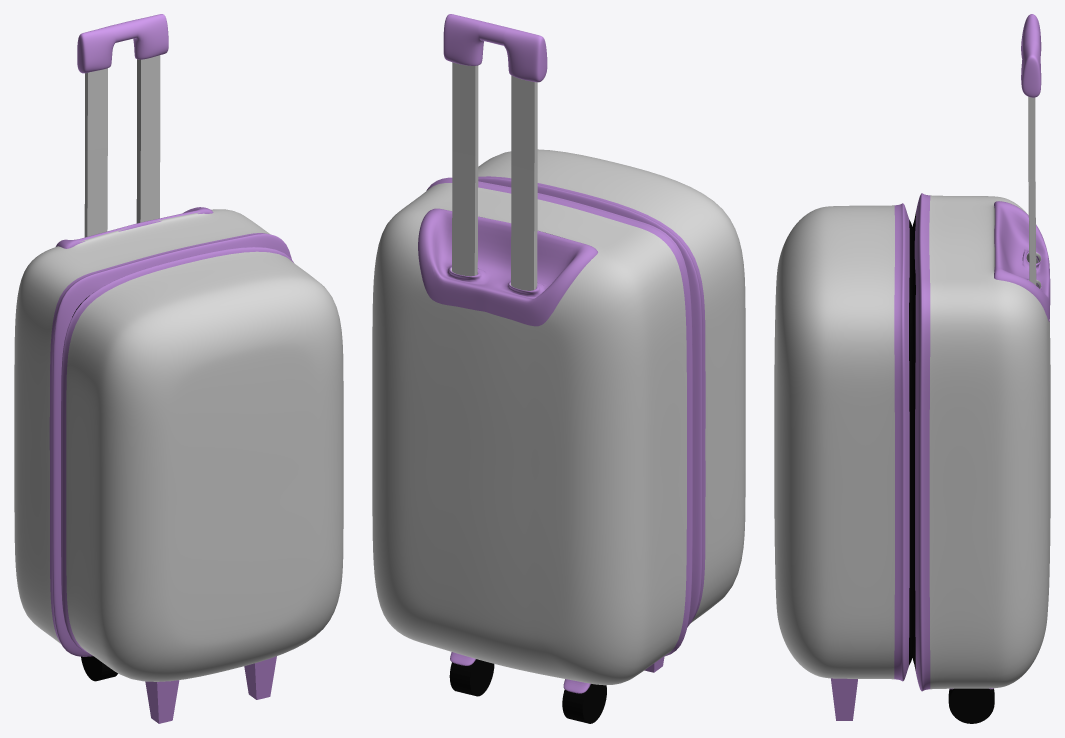
File: travel bag.fbx
3 renders of one model, left to right at view 1: azimuth 30°, elevation 25°; view 2: azimuth 150°, elevation 25°; view 3: azimuth 270°, elevation 25°, orthographic. The views are drawn at different scales.
Visible parts, largest first — view 1: Cube, Cube.002, Cube.003, Cube.004, Cube.001, Cylinder.006; view 2: Cube, Cube.002, Cube.001, Cube.003, Cylinder.006; view 3: Cube, Cube.001, Cube.003, Cylinder.006, Cube.002, Cube.004.
Part boxes in pixels (<box>): Cube: <box>14,209,343,681</box>; Cube.002: <box>84,55,160,237</box>; Cube.003: <box>77,14,168,73</box>; Cube.004: <box>145,656,276,723</box>; Cube.001: <box>55,207,213,248</box>; Cylinder.006: <box>81,656,117,681</box>; Cube: <box>372,149,745,685</box>; Cube.002: <box>452,62,537,290</box>; Cube.001: <box>418,208,597,326</box>; Cube.003: <box>443,14,547,82</box>; Cylinder.006: <box>449,659,606,723</box>; Cube: <box>774,193,1050,691</box>; Cube.001: <box>994,201,1050,321</box>; Cube.003: <box>1021,14,1041,97</box>; Cylinder.006: <box>948,688,994,723</box>; Cube.002: <box>1028,96,1036,285</box>; Cube.004: <box>831,678,857,720</box>.
Bounding box in the file's own units: 241 × 587 × 223.
